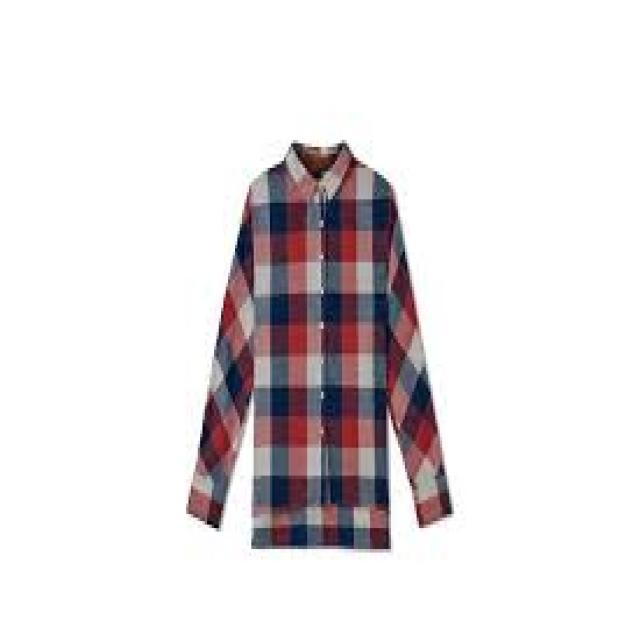plaid: (186, 153, 451, 562)
